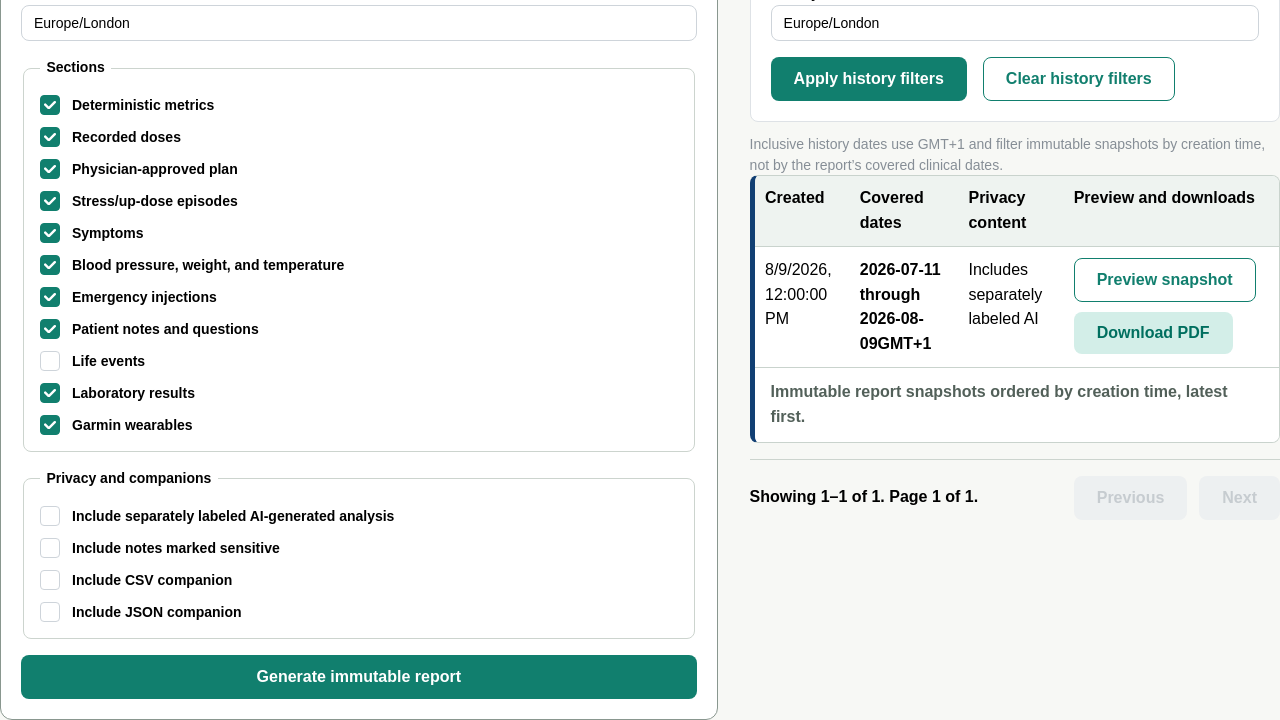
Test: Reports page › warns on AI opt-in and renders opted-in AI separately
(page scrolled)
Click the checkbox labelled "Include separately labeled AI-generated analysis" at (50,516), box left=40, top=506, right=60, bottom=526
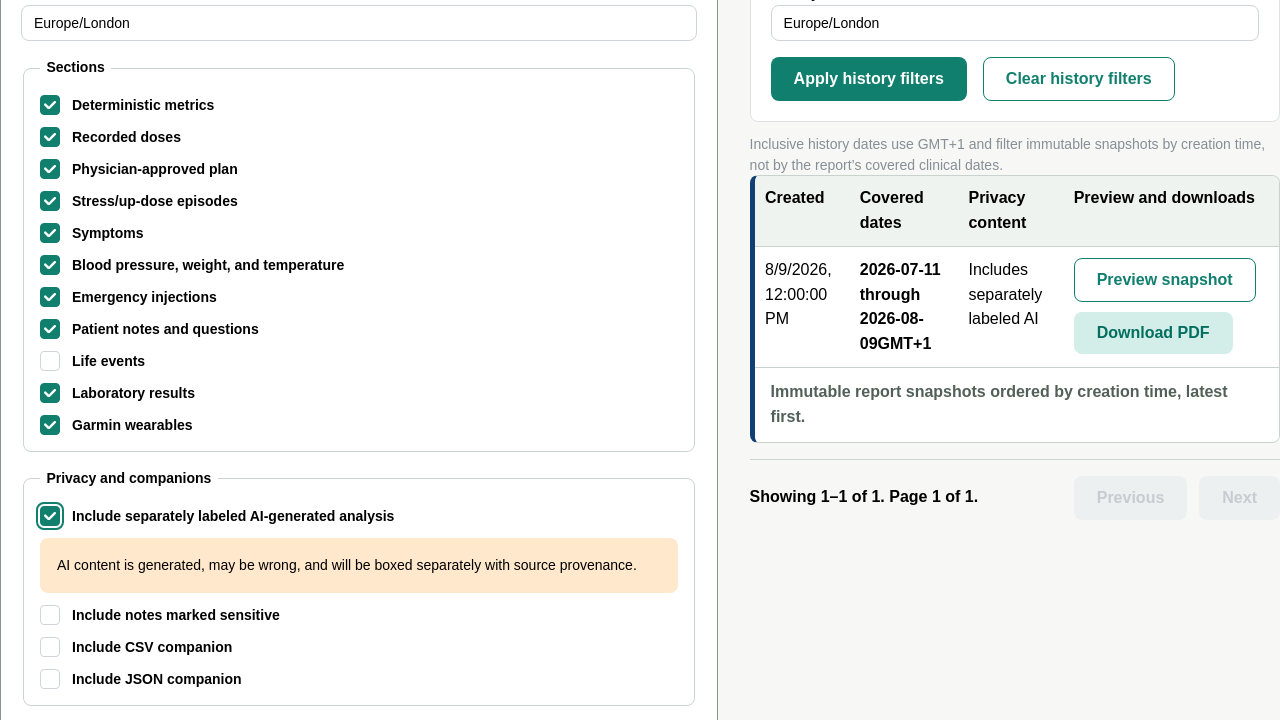
Check: the text "AI content is generated, may be wrong" is shown, box left=57, top=557, right=637, bottom=573
Click the button "Preview snapshot" at (1165,280), box left=1074, top=258, right=1256, bottom=302
(page scrolled)
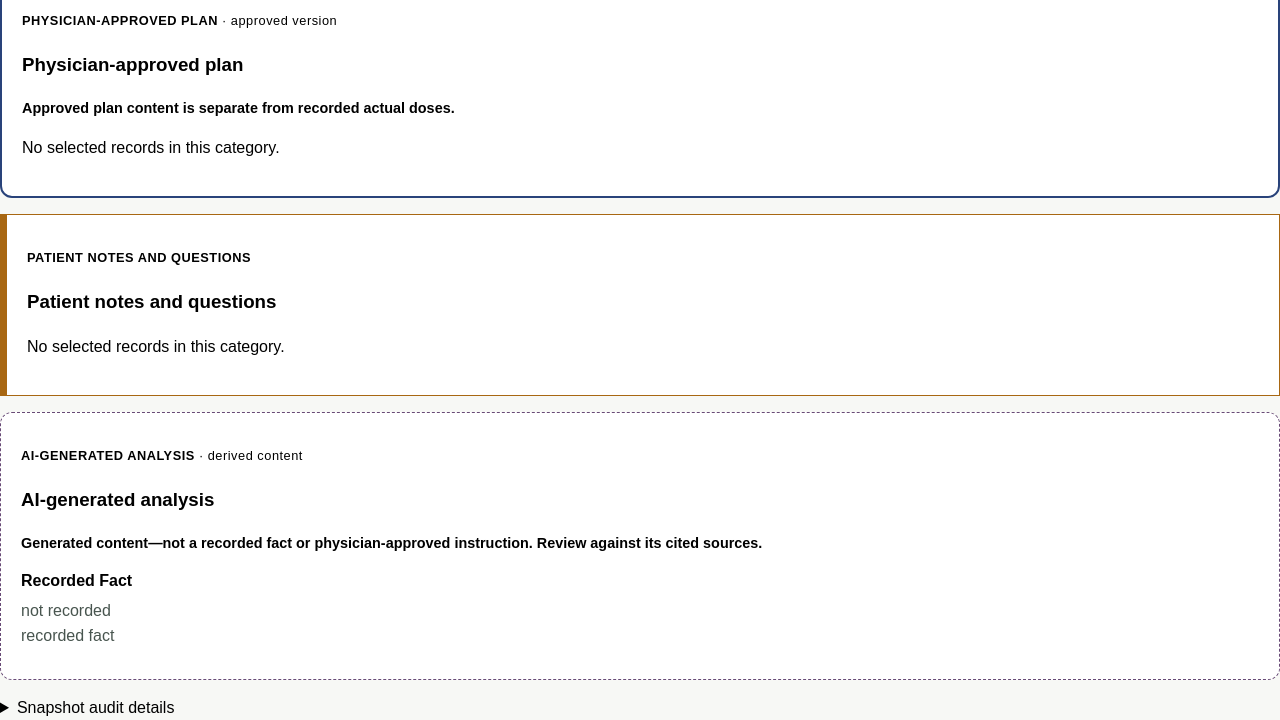
Check: the heading "AI-generated analysis" is shown, box left=21, top=489, right=214, bottom=510
Check: the text "Generated content—not a recorded fact" is shown, box left=21, top=535, right=762, bottom=551
